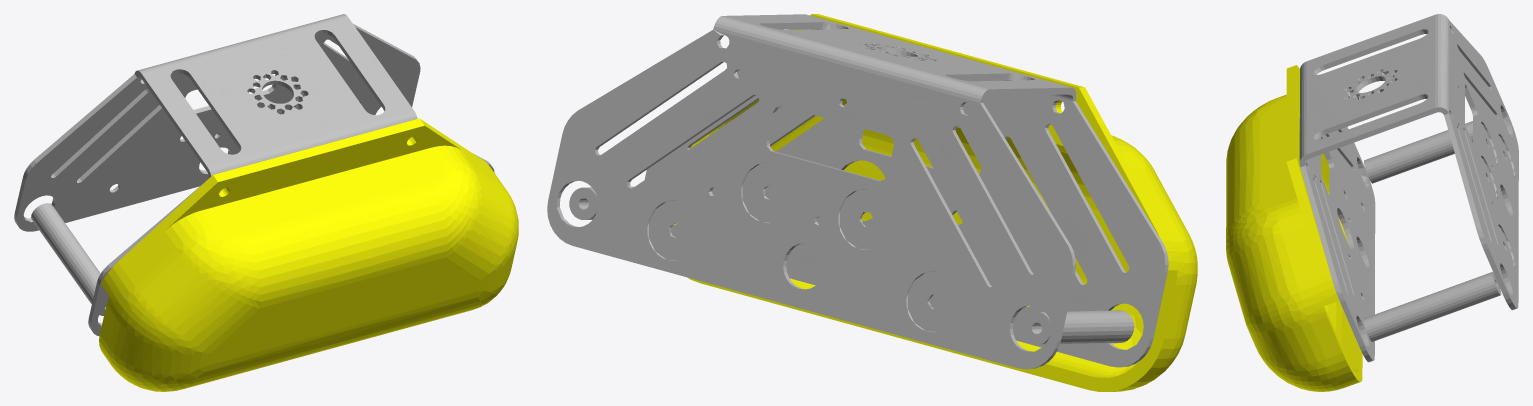
File: wrist_roll_module2.dae
3 renders of one model, left to right at view 1: azimuth 30°, elevation 25°; view 2: azimuth 150°, elevation 25°; view 3: azimuth 270°, elevation 25°, orthographic. The views are drawn at different scales.
Visible parts, largest first — view 1: node; view 2: node; view 3: node.
Boxes of the visible parts, x1,y1,x2,y2 form: node: (14, 14, 518, 391); node: (547, 14, 1197, 391); node: (1226, 14, 1518, 391).
Bounding box in the file's own units: 12.69 × 8.15 × 8.21.
1 material, 1 textured.
